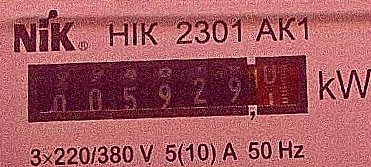0: (84, 84, 105, 113), (48, 88, 70, 112), (259, 61, 280, 85)
2: (188, 73, 209, 107)
5: (119, 82, 139, 111)
9: (152, 79, 175, 110), (224, 72, 245, 105), (51, 68, 70, 87)
screen: (18, 42, 317, 138)
